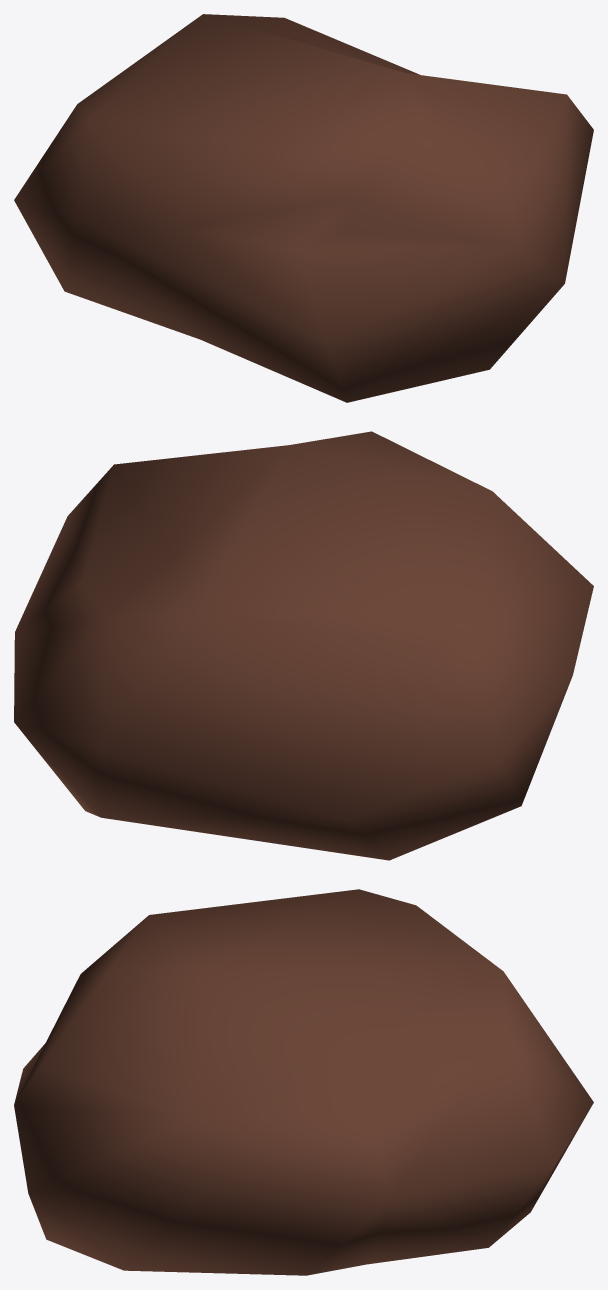
Rendered from Stone1.fbx.
3 views of the same model, one above another, from view 1: azimuth 30°, elevation 25°; view 2: azimuth 150°, elevation 25°; view 3: azimuth 270°, elevation 25° (orthographic). The views are drawn at different scales.
Visible parts, largest first — view 1: Stone1; view 2: Stone1; view 3: Stone1.
Boxes of the visible parts, <box> form: Stone1: <box>14,14,593,402</box>; Stone1: <box>14,431,593,860</box>; Stone1: <box>14,889,593,1275</box>.
Bounding box in the file's own units: 57.04 × 31.62 × 55.81.
